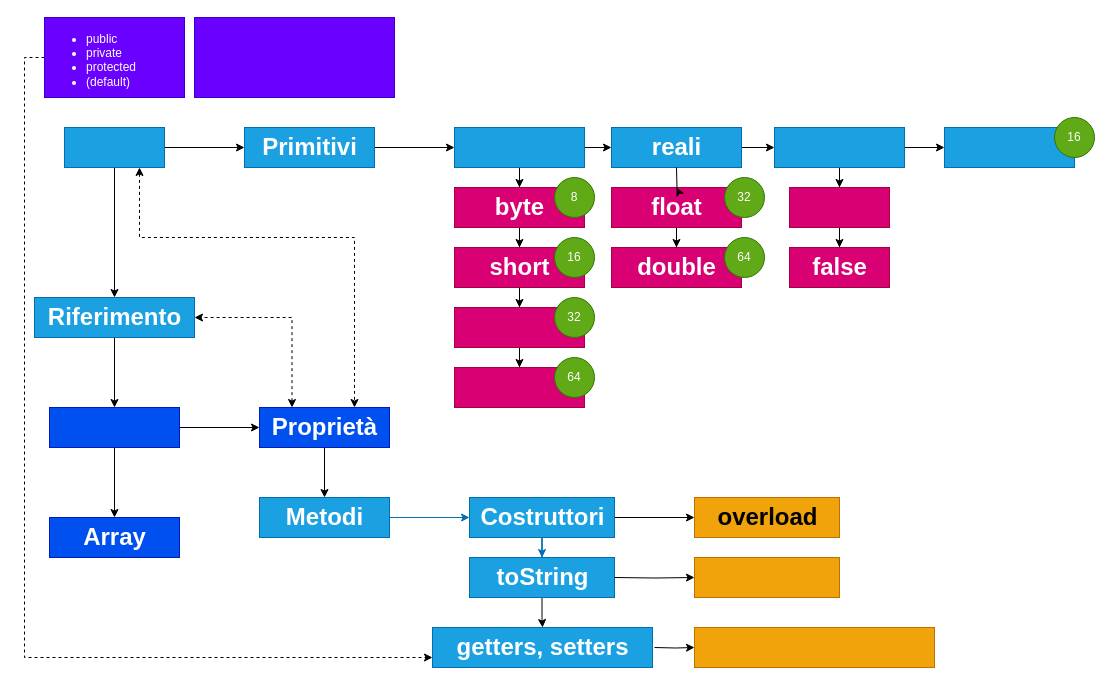
Some shapes in this 1112 by 685 pixel diagram are drawn without their labels. The box of each missing label's shape, as (x1, y1, x2, y2) in pixels:
boolean: (774, 126, 904, 168)
char: (944, 126, 1074, 168)
Classi: (48, 406, 180, 448)
incapsulamento: (694, 626, 934, 668)
int: (454, 306, 584, 348)
interi: (454, 126, 584, 168)
long: (454, 366, 584, 408)
modificatori di accesso: (194, 16, 394, 98)
override: (694, 556, 840, 598)
Tipi: (64, 126, 164, 168)
true: (788, 186, 890, 228)
